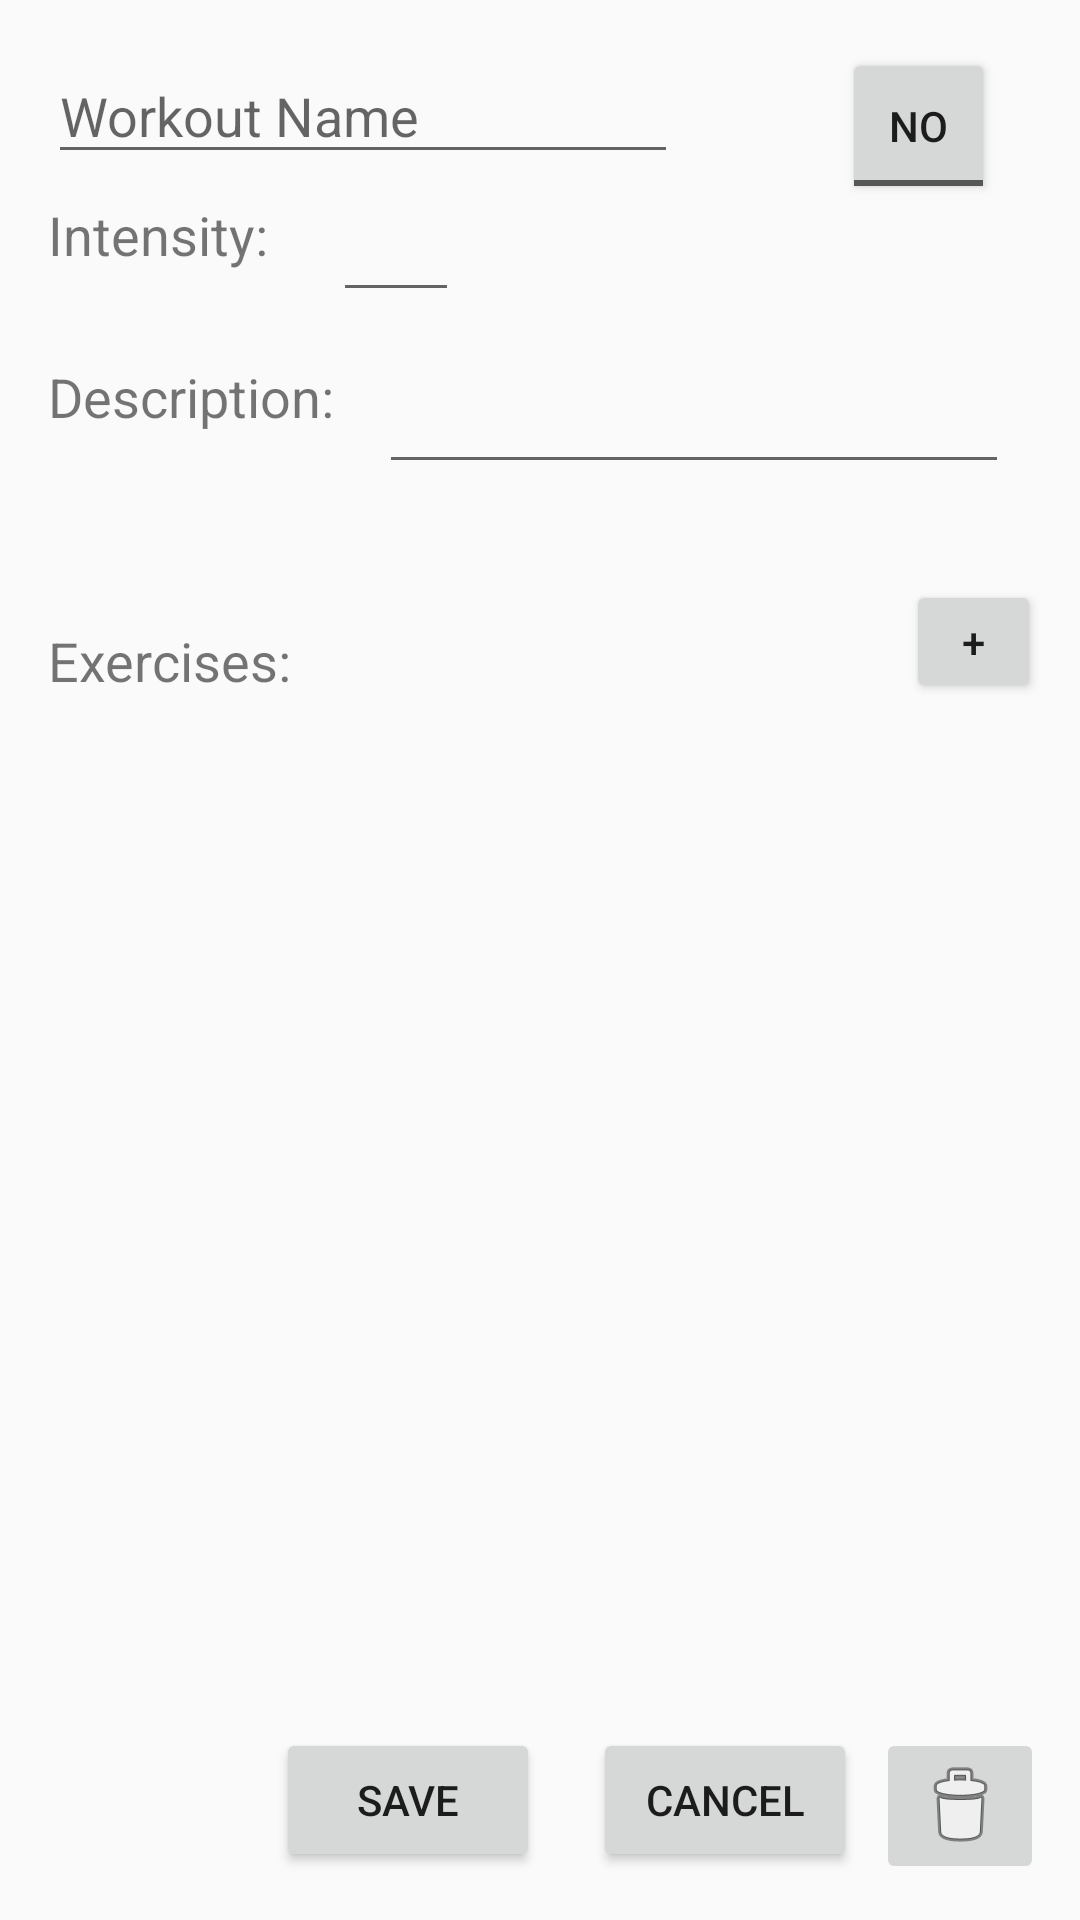

Screen size 1080×1920. Icon name, then its center in pixels as (x=x, y=y):
delete: (x=960, y=1806)
